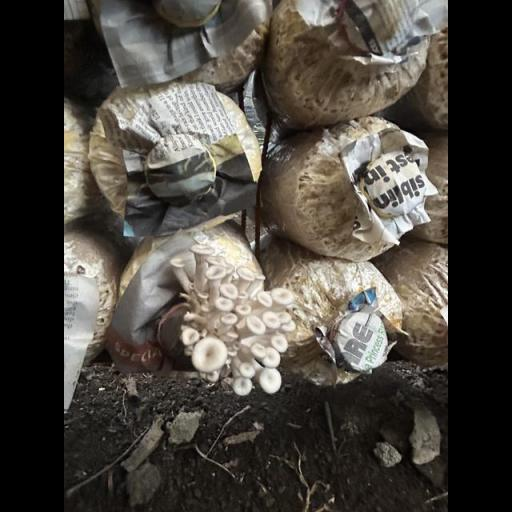White Oyster Mushroom: (157, 216, 307, 409)
